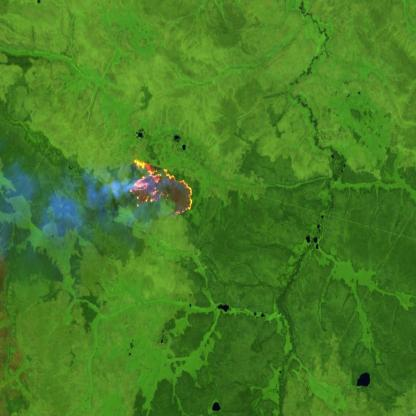fire: (128, 153, 197, 218)
